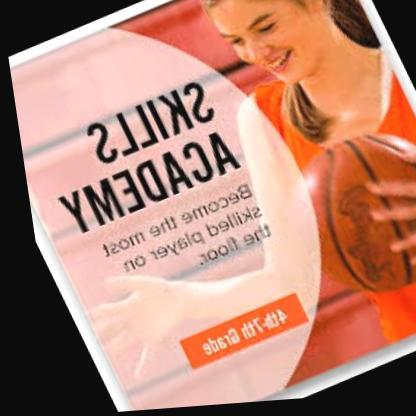basketball: (258, 118, 416, 321)
